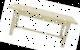Mesa: (0, 2, 78, 49)
